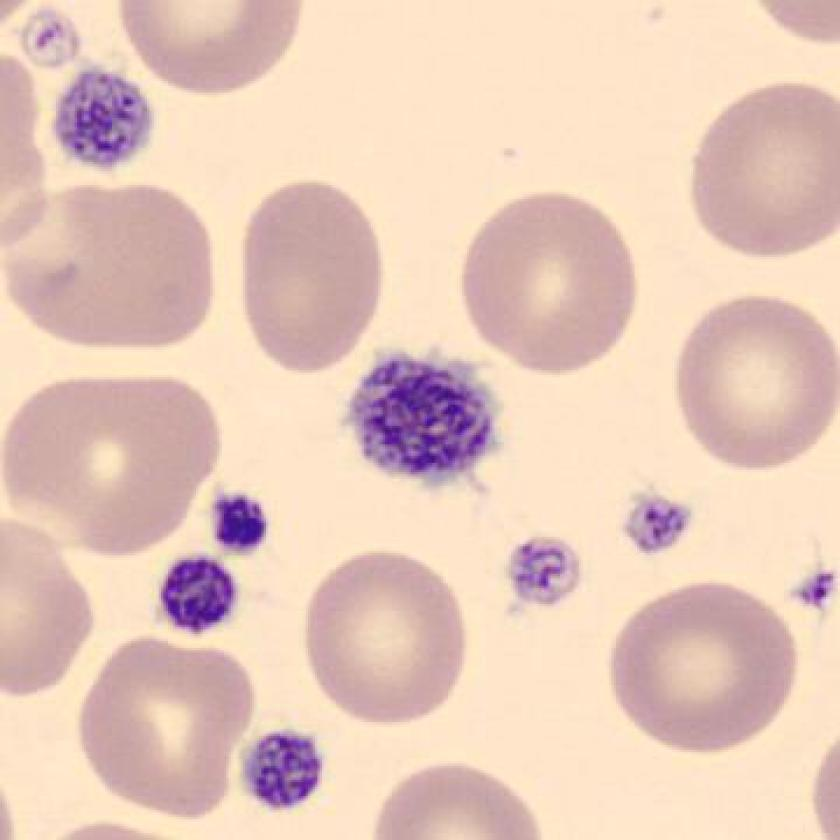platelets: (342, 339, 505, 498), (48, 66, 162, 181), (234, 726, 328, 823), (153, 554, 244, 642), (503, 536, 589, 617), (617, 480, 696, 568), (206, 485, 274, 568), (20, 6, 87, 77), (785, 552, 840, 623)
